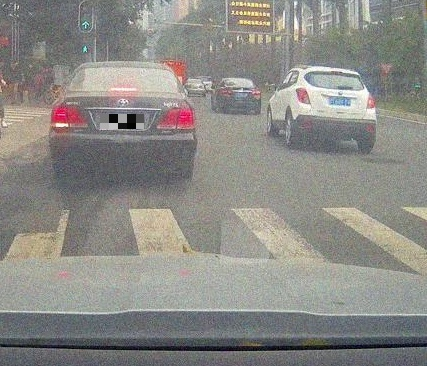L_light: (50, 106, 88, 129), (295, 87, 311, 104), (220, 89, 232, 96)
R_light: (156, 107, 196, 130), (366, 92, 375, 108), (249, 89, 261, 96)
T_light: (108, 87, 137, 92), (331, 71, 343, 75), (235, 79, 242, 80)
day-left: (49, 61, 198, 180)
day-no: (295, 66, 377, 154), (220, 78, 261, 114)
plate_1: (100, 114, 144, 129)
